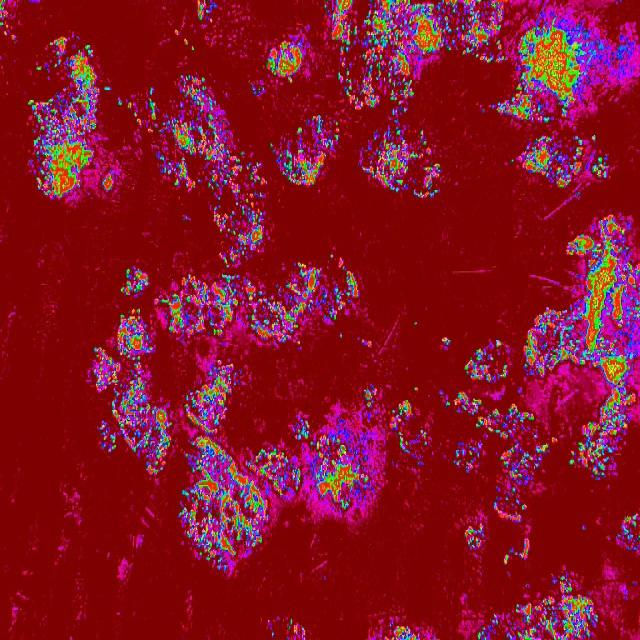fire: (175, 435, 268, 575), (27, 37, 100, 197), (512, 15, 604, 124), (521, 299, 640, 381), (155, 72, 231, 196), (361, 0, 507, 61), (160, 274, 264, 344), (108, 306, 156, 454), (568, 214, 640, 300), (312, 426, 374, 519), (361, 129, 438, 199), (270, 115, 342, 189), (568, 406, 629, 484), (184, 357, 244, 433), (336, 61, 416, 116), (506, 595, 600, 640), (212, 196, 266, 266), (518, 134, 570, 188), (264, 281, 306, 345), (498, 440, 550, 486), (444, 388, 498, 432), (324, 0, 362, 61), (465, 336, 510, 386), (329, 260, 360, 322), (262, 38, 304, 82), (269, 447, 301, 502), (390, 398, 416, 456), (232, 149, 264, 196), (500, 404, 537, 438), (451, 435, 483, 474), (490, 490, 528, 520), (616, 508, 640, 553), (118, 268, 150, 298), (154, 406, 172, 456), (603, 381, 640, 405), (89, 345, 108, 390), (462, 520, 487, 550), (294, 258, 326, 281), (306, 281, 326, 311), (590, 153, 612, 179), (390, 621, 420, 640), (572, 134, 584, 177), (126, 100, 142, 131), (196, 0, 216, 24), (146, 454, 168, 474), (293, 418, 312, 441), (286, 619, 306, 640), (554, 573, 575, 593), (489, 99, 511, 118), (362, 384, 379, 408), (516, 537, 532, 562), (100, 171, 115, 197), (249, 82, 267, 99), (148, 84, 156, 122), (98, 420, 108, 450), (0, 1, 9, 31), (418, 425, 430, 445), (182, 38, 198, 52), (359, 338, 373, 351), (474, 629, 490, 640), (488, 613, 501, 626), (503, 549, 511, 566), (439, 336, 452, 346), (104, 84, 112, 94), (552, 434, 560, 444), (115, 99, 124, 107), (575, 189, 581, 200), (182, 214, 190, 222), (10, 33, 16, 43), (329, 251, 335, 261), (592, 133, 597, 142), (412, 319, 418, 326), (338, 333, 343, 341), (412, 385, 418, 391), (509, 158, 515, 164), (271, 631, 275, 639)
